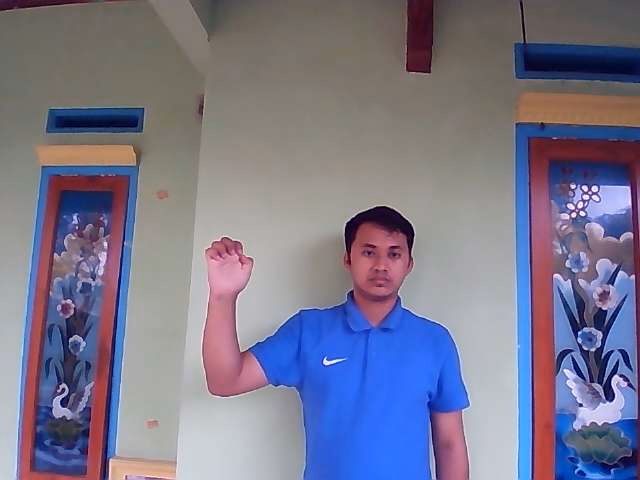E: (204, 237, 254, 296)
